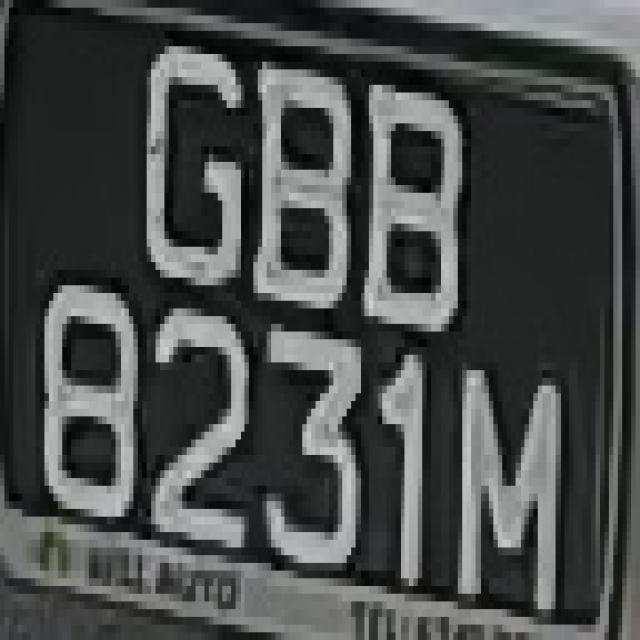1: (373, 316, 431, 625)
2: (142, 278, 254, 578)
3: (240, 278, 378, 586)
8: (27, 247, 151, 547)
B: (351, 46, 467, 355), (249, 46, 351, 332)
G: (120, 23, 249, 301)
M: (458, 339, 564, 617)
